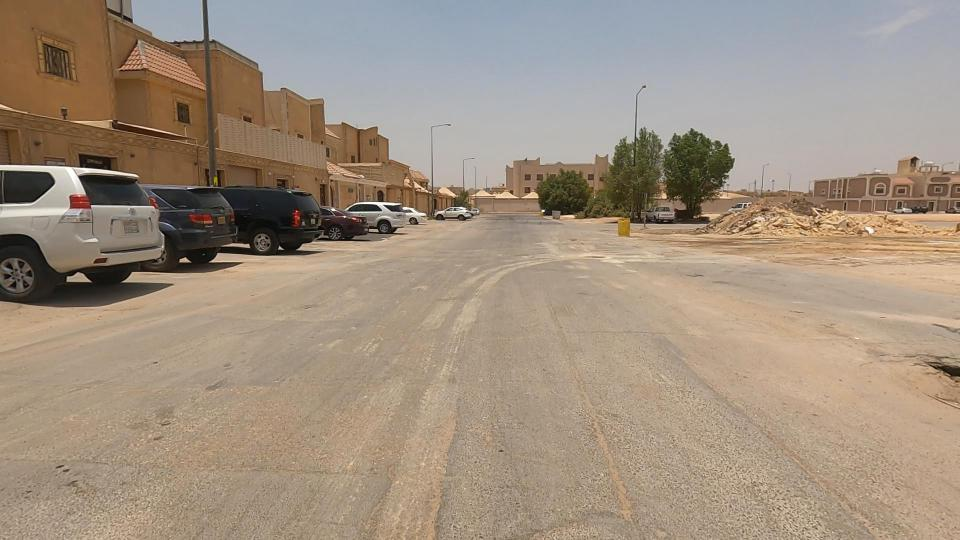GARBAGE: (819, 203, 902, 264)
SAND_ON_ROAD: (705, 183, 804, 262)
